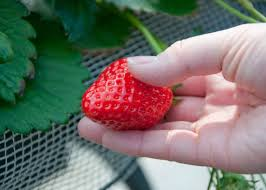ripe: (81, 53, 178, 136)
